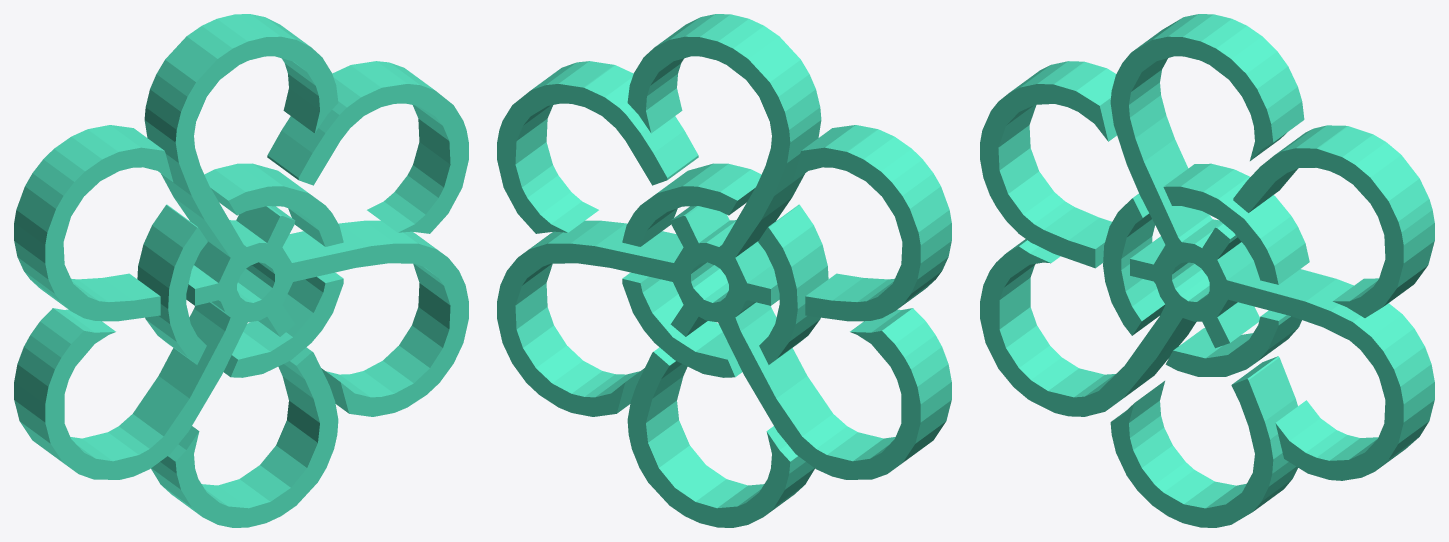
The model's file is wick-radical-self-reliance.glb.
3 views of the same model, side by side, from view 1: azimuth 30°, elevation 25°; view 2: azimuth 150°, elevation 25°; view 3: azimuth 330°, elevation 25° (orthographic).
Size of the model in its own units: 0.0998 by 0.1095 by 0.0127.
